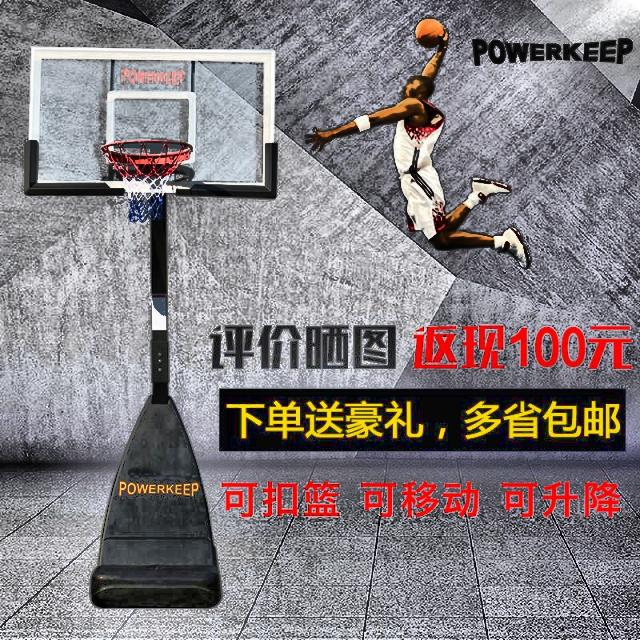rim: (104, 139, 194, 221)
